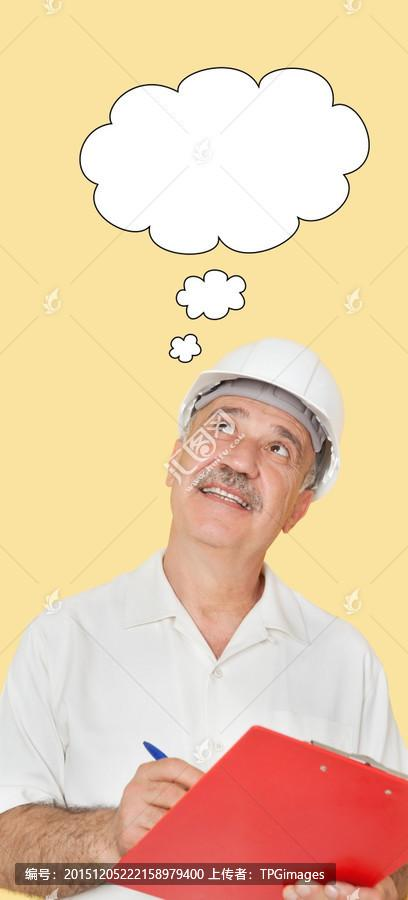helmet: (178, 334, 348, 500)
